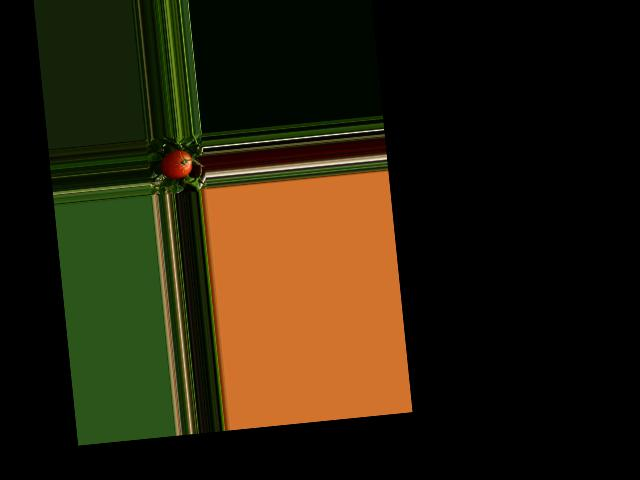tomato: (160, 148, 193, 179)
